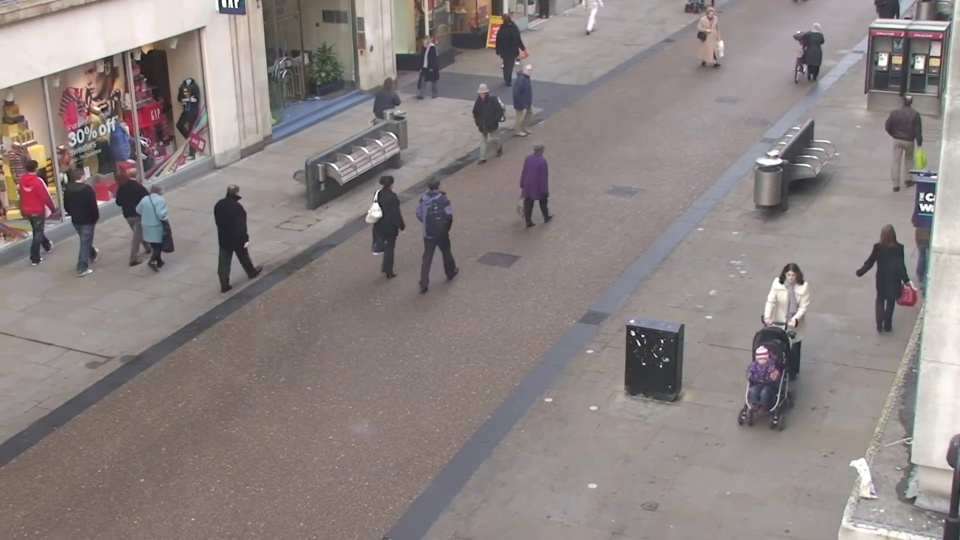pedestrian: (729, 341, 784, 496), (759, 264, 808, 399), (858, 215, 909, 339), (17, 153, 69, 257), (63, 162, 112, 267), (145, 172, 190, 281), (120, 159, 165, 264), (226, 174, 268, 284), (378, 167, 417, 276), (423, 165, 460, 275), (886, 91, 929, 184), (531, 134, 564, 235), (465, 83, 496, 170), (380, 71, 410, 153), (524, 62, 552, 144), (799, 17, 829, 89), (409, 34, 435, 106), (497, 15, 521, 82), (701, 6, 725, 73), (490, 12, 514, 79)
